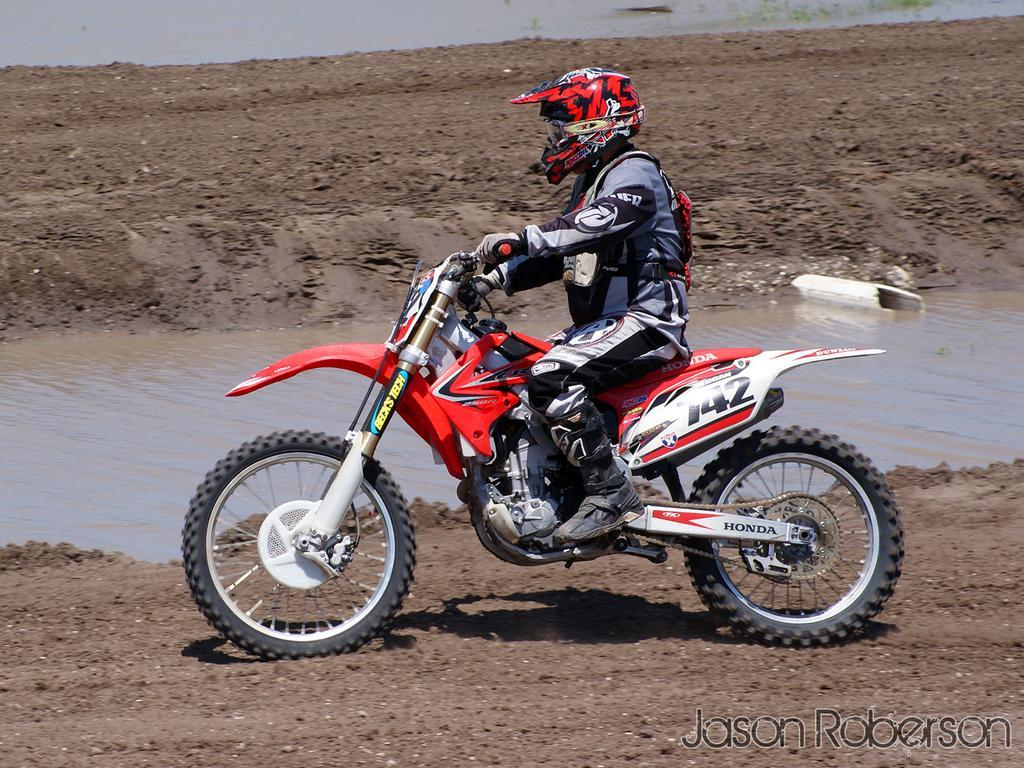helmet: (508, 66, 647, 186)
